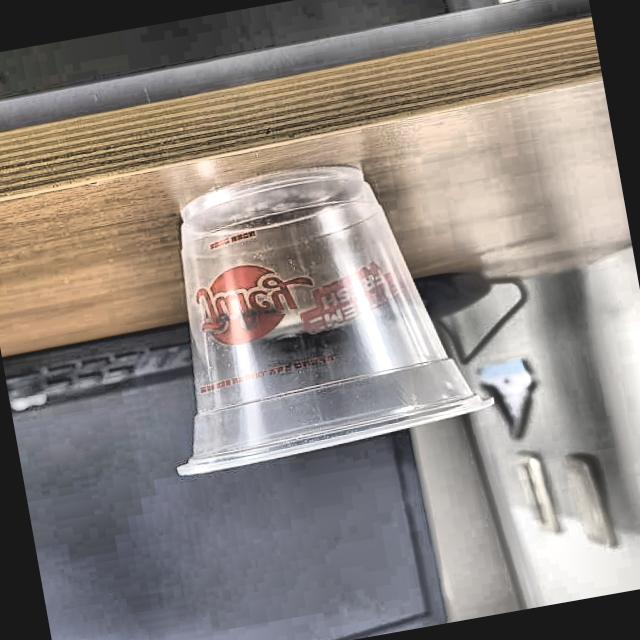plastic cup: (124, 138, 500, 484)
